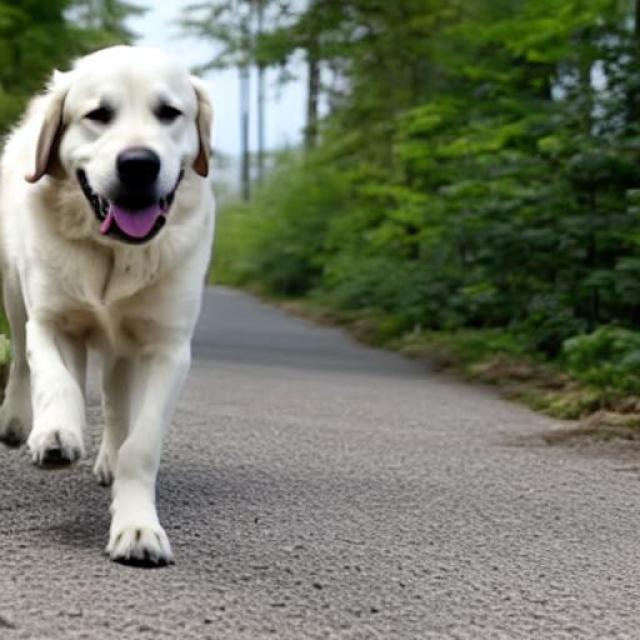Dog: (0, 45, 217, 568)
